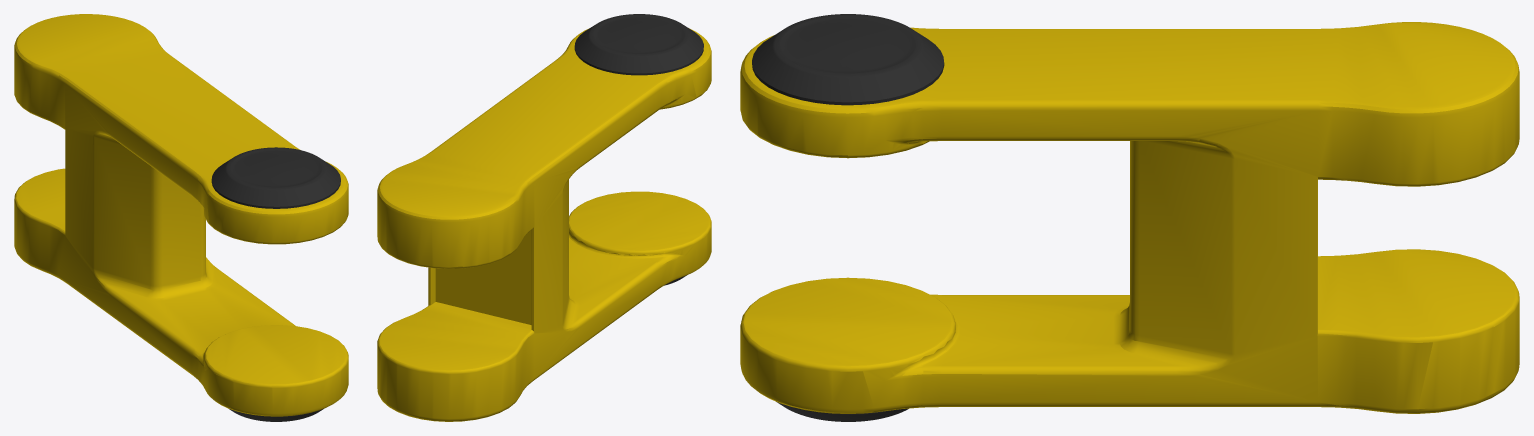
Rendered from ankle_pitch_link.glb.
The picture shows the model from 3 angles, left to right: view 1: azimuth 30°, elevation 25°; view 2: azimuth 150°, elevation 25°; view 3: azimuth 270°, elevation 25°; orthographic projection. The views are drawn at different scales.
Parts seen in each view (by area): view 1: Mesh_0.013; view 2: Mesh_0.013; view 3: Mesh_0.013.
Boxes of the visible parts, box(x1,y1,x2,y2) form: Mesh_0.013: box(14, 14, 348, 421); Mesh_0.013: box(377, 14, 711, 421); Mesh_0.013: box(740, 14, 1519, 421).
Size of the model in its own units: 0.13 by 0.234 by 0.47.
